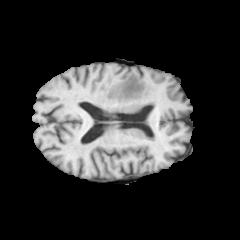glioma: (103, 74, 154, 109)
